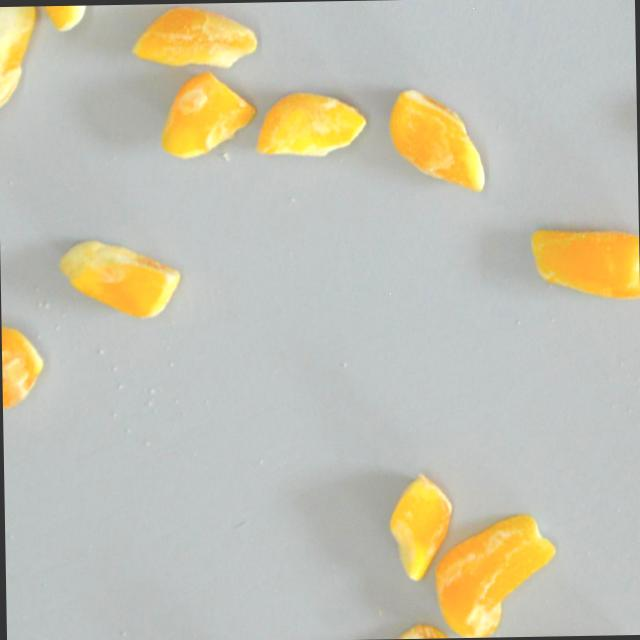pelicula: (430, 512, 557, 638), (53, 235, 181, 321), (385, 86, 484, 194), (528, 220, 640, 300), (157, 70, 254, 159), (252, 88, 366, 162), (127, 5, 256, 70), (384, 474, 453, 581), (0, 5, 38, 128), (0, 320, 42, 409), (14, 4, 90, 32), (376, 620, 470, 639)
